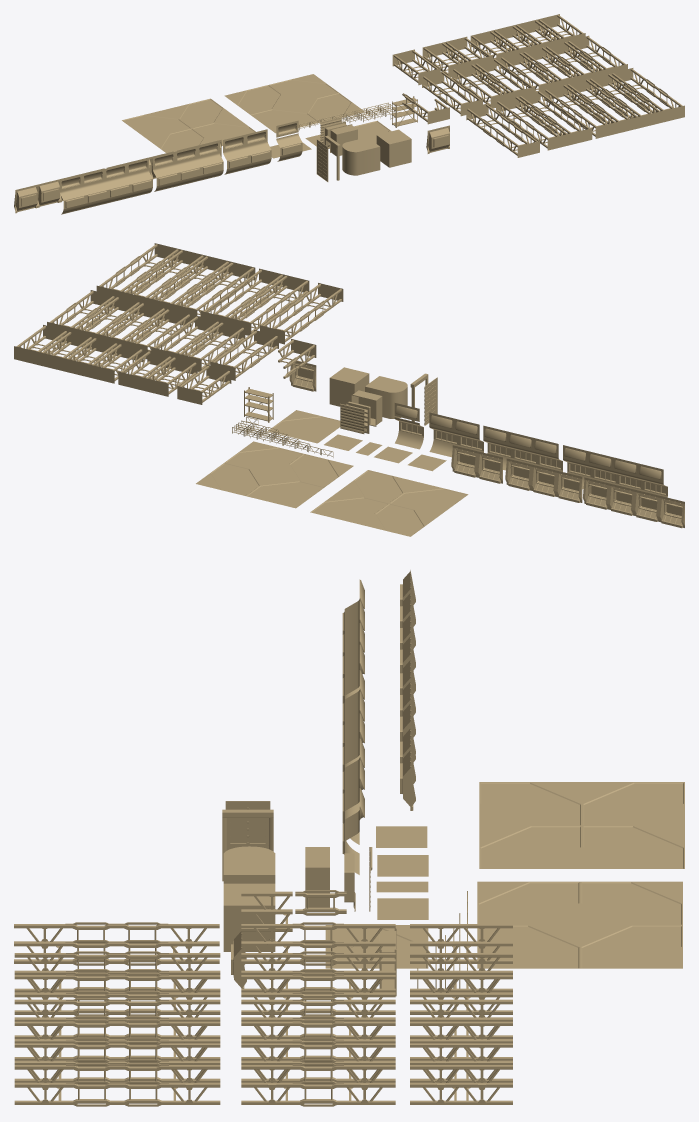
File: Cargo_Bay.fbx
The picture shows the model from 3 angles, top to bottom: view 1: azimuth 30°, elevation 25°; view 2: azimuth 150°, elevation 25°; view 3: azimuth 270°, elevation 25°; orthographic projection. The views are drawn at different scales.
Visible parts, largest first — view 1: CB_v15_10, CB_v1_2, CB_v1_3, CB_v15_5, CB_v6_4, CB_v15_9, CB_v15_8, CB_v6_3, CB_v15_4, CB_v15_11, CB_v15_7, CB_v6_2 (+14 smaller); view 2: CB_v1_3, CB_v1_2, CB_v15_10, CB_v15_5, CB_v15_8, CB_v15_9, CB_v6_4, CB_v14_4, CB_v15_4, CB_v15_7, CB_v6_3, CB_v14_3 (+17 smaller); view 3: CB_v1_3, CB_v1_2, CB_v15_10, CB_v15_5, CB_v15_9, CB_v15_8, CB_v15_4, CB_v15_11, CB_v15_7, CB_v15_3, CB_v13_1, CB_v1_1 (+16 smaller).
Boxes of the visible parts, x1=… form: CB_v15_10: x1=544, y1=68, x2=684, y2=138; CB_v1_2: x1=224, y1=74, x2=364, y2=133; CB_v1_3: x1=122, y1=98, x2=255, y2=152; CB_v15_5: x1=500, y1=35, x2=627, y2=96; CB_v6_4: x1=59, y1=158, x2=152, y2=214; CB_v15_9: x1=496, y1=90, x2=592, y2=150; CB_v15_8: x1=470, y1=14, x2=585, y2=65; CB_v6_3: x1=153, y1=141, x2=223, y2=191; CB_v15_4: x1=452, y1=58, x2=535, y2=108; CB_v15_11: x1=466, y1=103, x2=539, y2=157; CB_v15_7: x1=422, y1=36, x2=492, y2=77; CB_v6_2: x1=223, y1=129, x2=271, y2=174; CB_v1_3: x1=310, y1=470, x2=468, y2=536; CB_v1_2: x1=196, y1=441, x2=353, y2=508; CB_v15_10: x1=96, y1=243, x2=255, y2=322; CB_v15_5: x1=47, y1=290, x2=191, y2=359; CB_v15_8: x1=14, y1=325, x2=143, y2=383; CB_v15_9: x1=201, y1=268, x2=309, y2=335; CB_v6_4: x1=563, y1=445, x2=667, y2=497; CB_v14_4: x1=583, y1=477, x2=684, y2=528; CB_v15_4: x1=151, y1=315, x2=245, y2=371; CB_v15_7: x1=118, y1=350, x2=197, y2=396; CB_v6_3: x1=483, y1=425, x2=562, y2=471; CB_v14_3: x1=505, y1=458, x2=582, y2=502; CB_v1_3: x1=479, y1=782, x2=684, y2=868; CB_v1_2: x1=477, y1=881, x2=682, y2=968; CB_v15_10: x1=14, y1=998, x2=220, y2=1106; CB_v15_5: x1=241, y1=998, x2=395, y2=1106; CB_v15_9: x1=14, y1=951, x2=220, y2=1015; CB_v15_8: x1=410, y1=999, x2=512, y2=1104; CB_v15_4: x1=241, y1=951, x2=395, y2=1015; CB_v15_11: x1=14, y1=922, x2=219, y2=965; CB_v15_7: x1=410, y1=953, x2=512, y2=1014; CB_v15_3: x1=241, y1=922, x2=395, y2=965; CB_v13_1: x1=223, y1=883, x2=275, y2=951; CB_v1_1: x1=325, y1=925, x2=428, y2=968.
Bounding box in the file's own units: 76.59 × 5.43 × 39.14.
